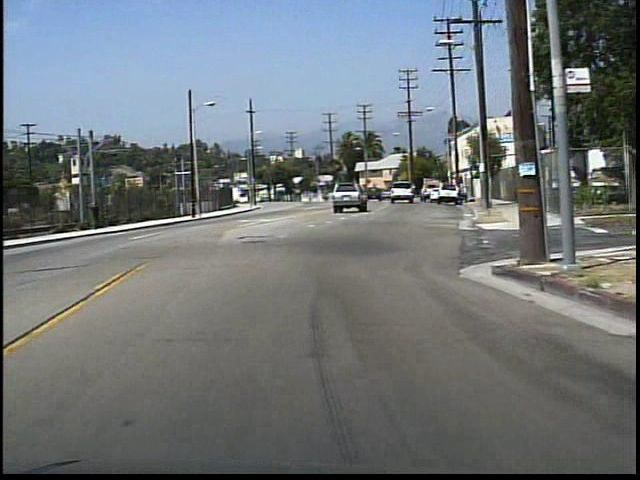person: (92, 197, 106, 231)
